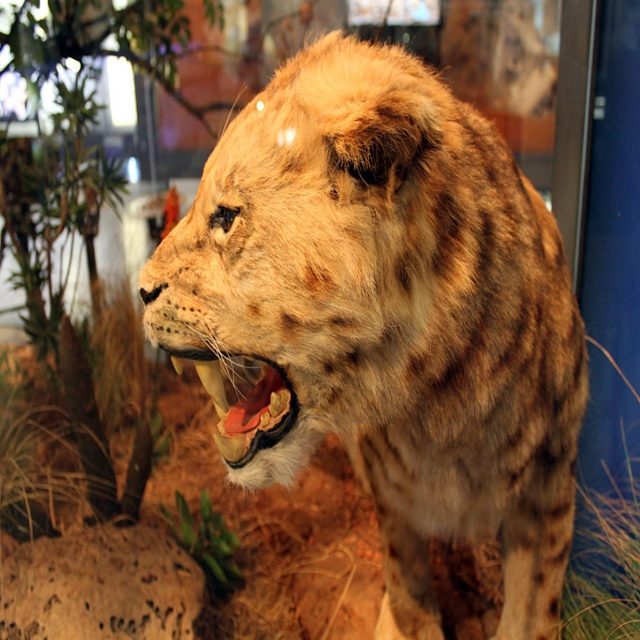Lion: (136, 24, 590, 639)
